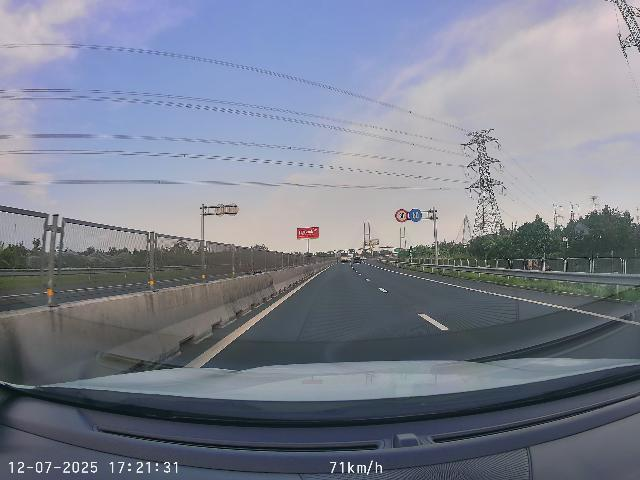127-toc-do-toi-da-80: (395, 209, 408, 223)
306-toc-do-toi-thieu-60: (409, 208, 422, 222)
